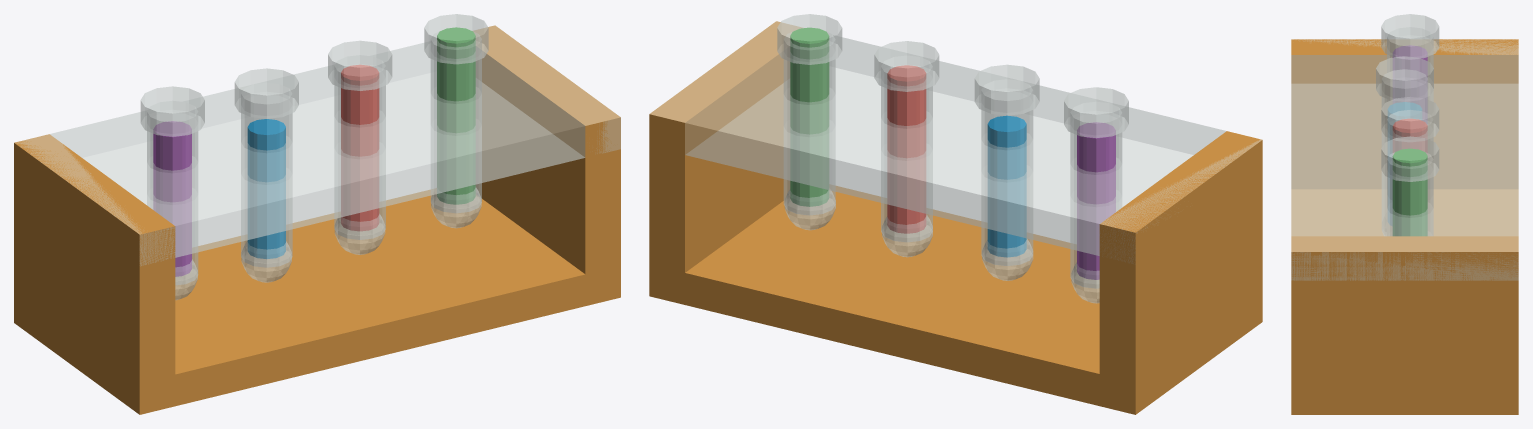
The model's file is tubes.glb.
3 renders of one model, left to right at view 1: azimuth 30°, elevation 25°; view 2: azimuth 150°, elevation 25°; view 3: azimuth 270°, elevation 25°, orthographic. The views are drawn at different scales.
Visible parts, largest first — view 1: group1888901795, group1466635588, group1930054553, group463301023, group1699342119, group458924257, group902564457, group1215768112; view 2: group1888901795, group1466635588, group1930054553, group463301023, group902564457, group458924257, group1699342119, group1215768112; view 3: group1888901795, group463301023, group1930054553, group1466635588, group902564457, group458924257, group1215768112, group1699342119.
Boxes of the visible parts, <box> form: group1888901795: <box>15,25,620,265</box>; group1466635588: <box>31,190,620,414</box>; group1930054553: <box>14,134,175,414</box>; group463301023: <box>473,25,620,274</box>; group1699342119: <box>328,40,392,254</box>; group458924257: <box>234,68,298,282</box>; group902564457: <box>424,14,488,228</box>; group1215768112: <box>140,86,204,300</box>; group1888901795: <box>650,21,1261,263</box>; group1466635588: <box>685,186,1262,414</box>; group1930054553: <box>1099,131,1262,414</box>; group463301023: <box>649,21,800,304</box>; group902564457: <box>777,14,842,230</box>; group458924257: <box>974,64,1039,280</box>; group1699342119: <box>874,41,939,257</box>; group1215768112: <box>1064,87,1128,303</box>; group1888901795: <box>1291,39,1518,280</box>; group463301023: <box>1291,236,1518,414</box>; group1930054553: <box>1291,39,1518,188</box>; group1466635588: <box>1291,189,1518,414</box>; group902564457: <box>1381,136,1439,236</box>; group458924257: <box>1376,56,1433,235</box>; group1215768112: <box>1381,14,1439,101</box>; group1699342119: <box>1381,97,1439,157</box>.
Size of the model in its own units: 0.95 by 0.464 by 0.43.
